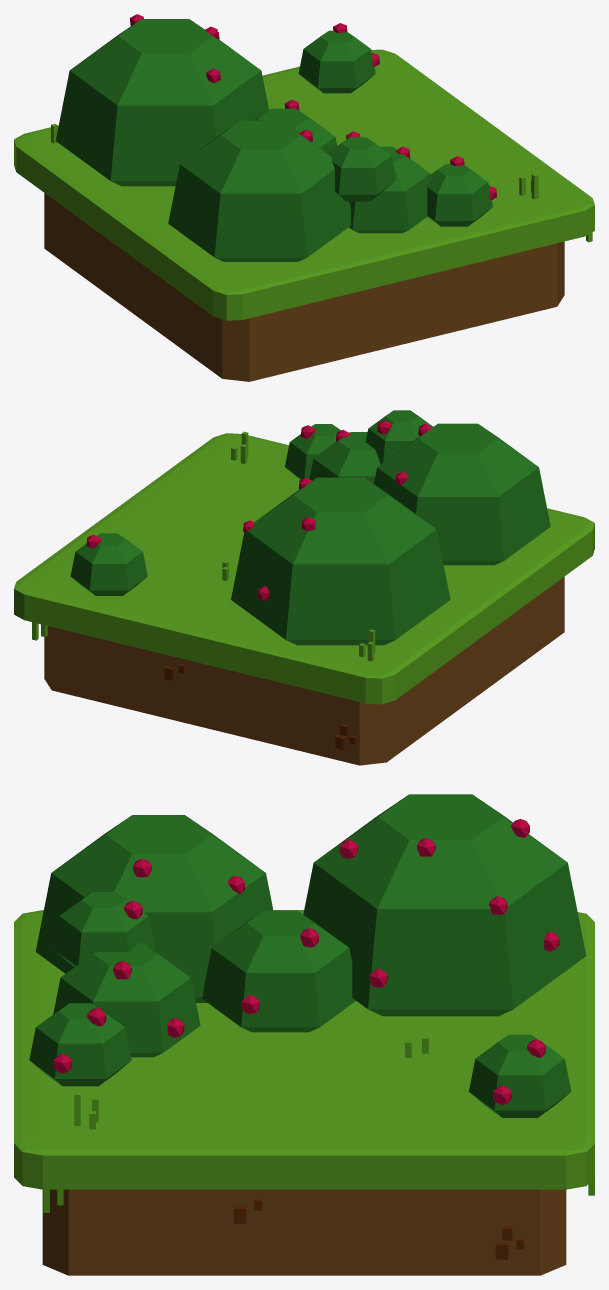
The model's file is Tilemap-buissons-project happiness.fbx.
3 renders of one model, top to bottom at view 1: azimuth 30°, elevation 25°; view 2: azimuth 150°, elevation 25°; view 3: azimuth 270°, elevation 25°, orthographic. The views are drawn at different scales.
Parts seen in each view (by area): view 1: Cube.182; view 2: Cube.182; view 3: Cube.182.
Part boxes in pixels (bbox=[...]): Cube.182: bbox=[14, 14, 594, 381]; Cube.182: bbox=[14, 410, 594, 765]; Cube.182: bbox=[14, 794, 594, 1275].
Bounding box in the file's own units: 5 × 2.87 × 5.
